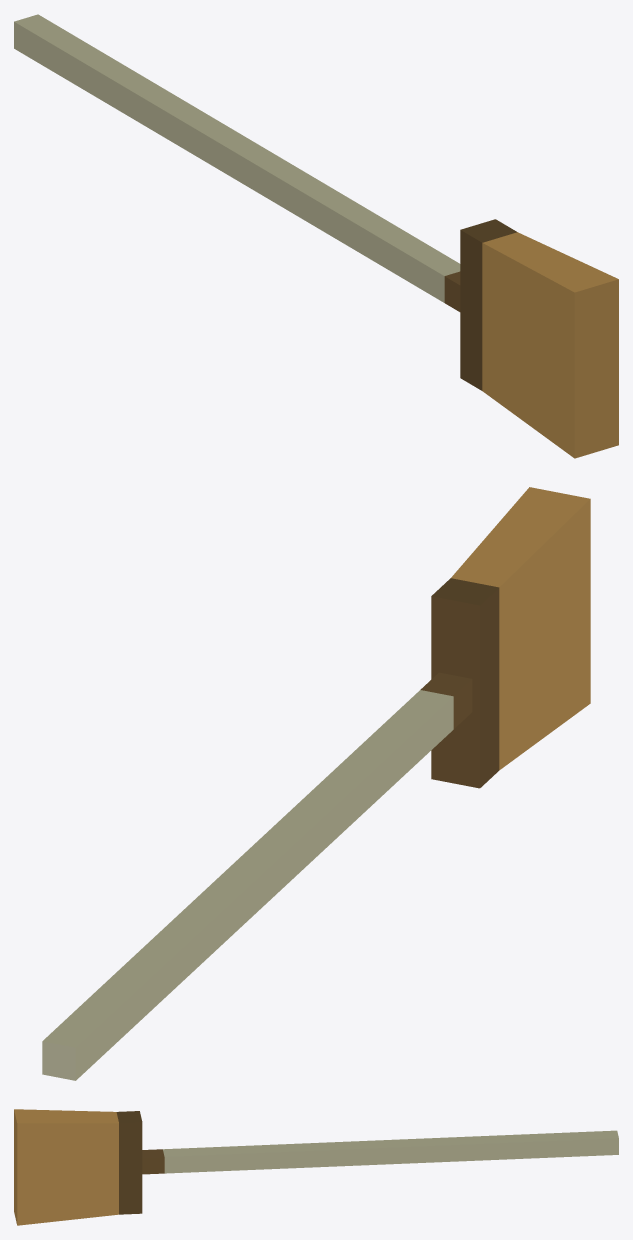
Rendered from Broom.glb.
The picture shows the model from 3 angles, top to bottom: view 1: azimuth 30°, elevation 25°; view 2: azimuth 150°, elevation 25°; view 3: azimuth 270°, elevation 25°; orthographic projection. The views are drawn at different scales.
Visible parts, largest first — view 1: SO_Broom; view 2: SO_Broom; view 3: SO_Broom.
Part boxes in pixels (box(x1,y1,x2,y2)): SO_Broom: box(14, 14, 618, 458); SO_Broom: box(42, 487, 590, 1080); SO_Broom: box(14, 1109, 618, 1225).
Size of the model in its own units: 0.3072 by 0.4111 by 2.2.
Materials: 1 (1 with a texture image).
